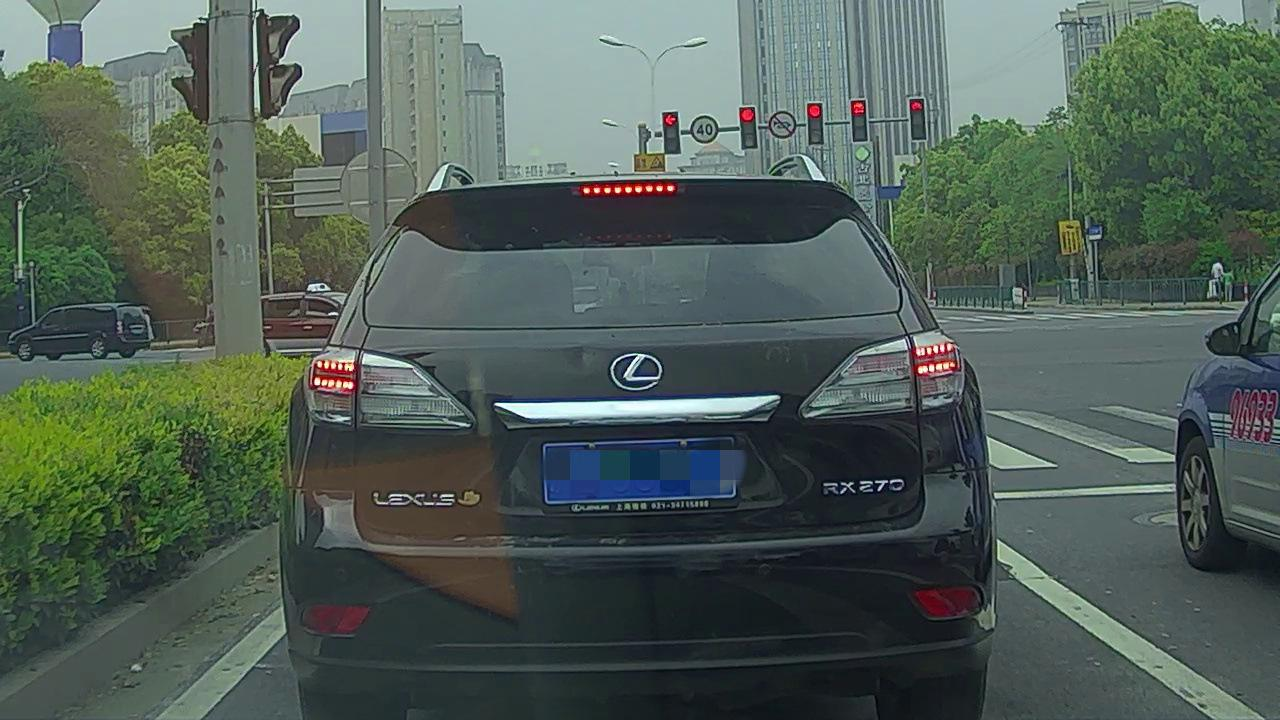traffic_light: (662, 113, 681, 154), (909, 97, 926, 140), (852, 99, 868, 143), (740, 106, 756, 149), (806, 104, 823, 144)
